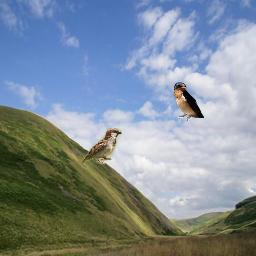Sparrow: (82, 128, 122, 164)
Swallow: (174, 82, 204, 122)
